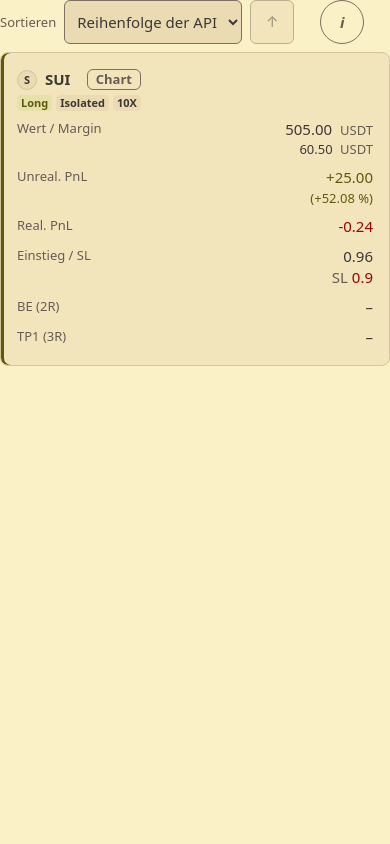
OpenPositionsTable: Erklärung zu den TPs › öffnet über (i) im Spaltenkopf einen Dialog mit der Erklärung
Click the button named "Erklärung zu den TPs".
click(342, 22)  # box [320,0,364,44]
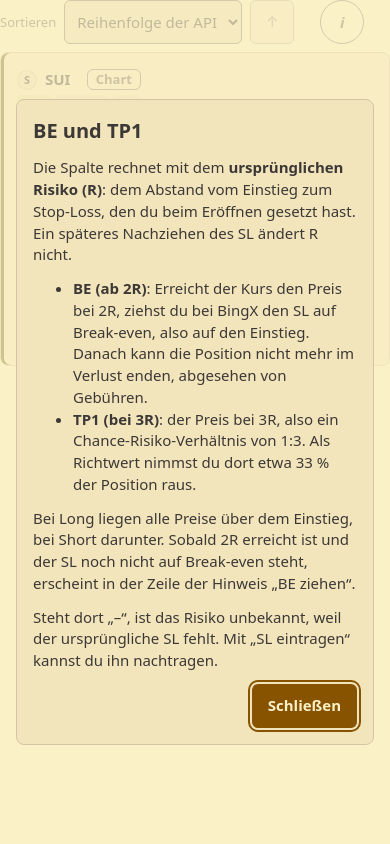
Expected: the dialog "BE und TP1" shows "2R", [73,278,146,298]
Expected: the dialog "BE und TP1" shows "3R", [73,408,159,428]
Expected: the dialog "BE und TP1" shows "Break-even", [73,278,354,407]
